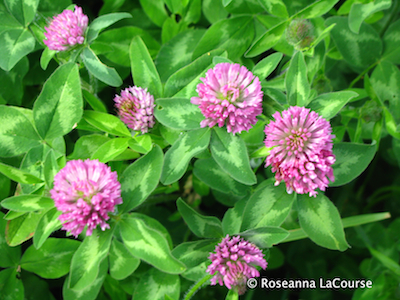clover blossom purple: (263, 104, 335, 197), (50, 157, 124, 238), (189, 61, 265, 136), (206, 233, 270, 290), (43, 6, 90, 52), (113, 85, 156, 133)
